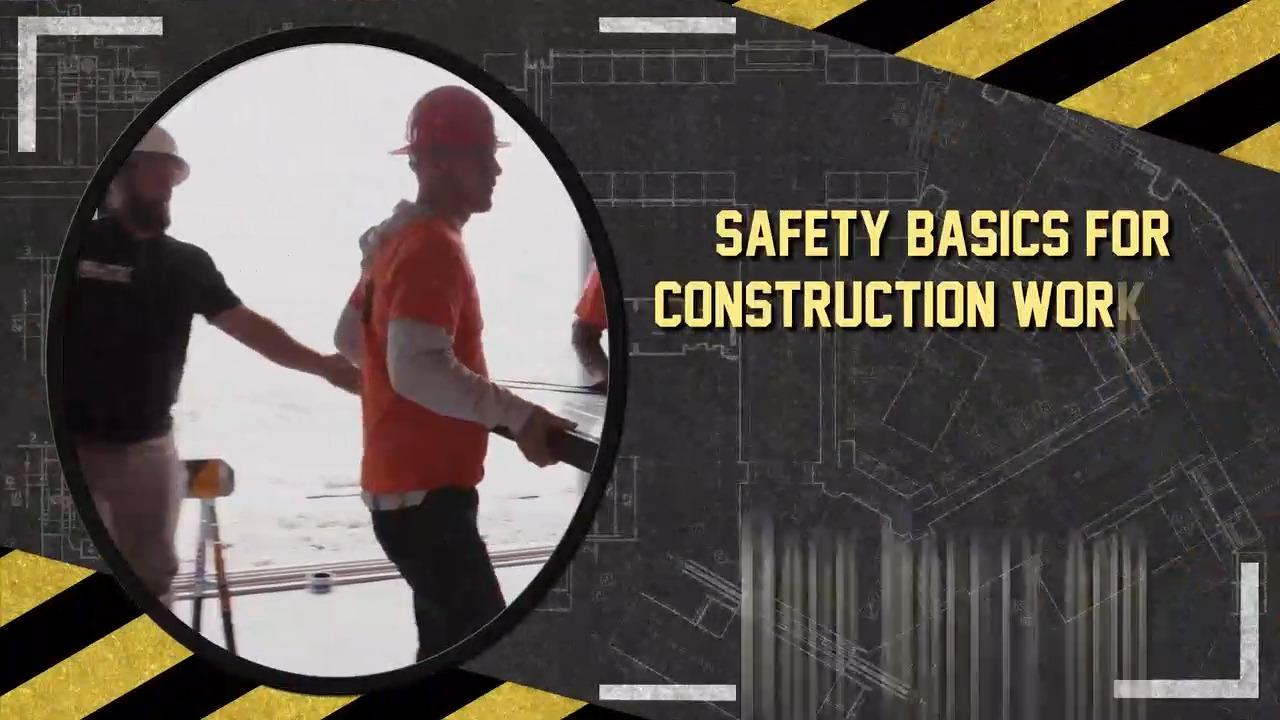Helmet: (387, 84, 505, 155), (106, 119, 193, 166)
Person: (333, 90, 580, 671), (53, 112, 242, 606)
bare-arms: (512, 402, 567, 467)
no-vest: (351, 212, 492, 495), (83, 236, 201, 413)
